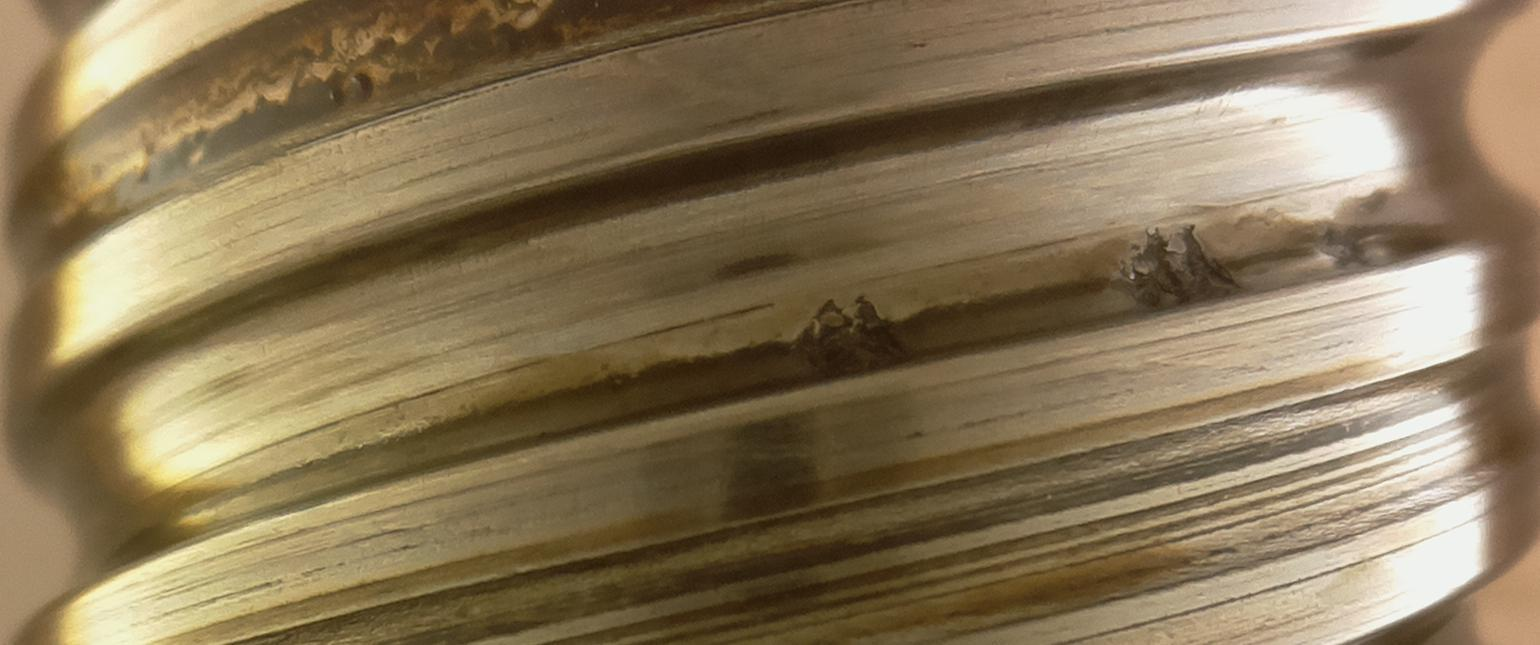pitting: (1119, 224, 1244, 312), (799, 295, 926, 378), (1320, 231, 1368, 269)
